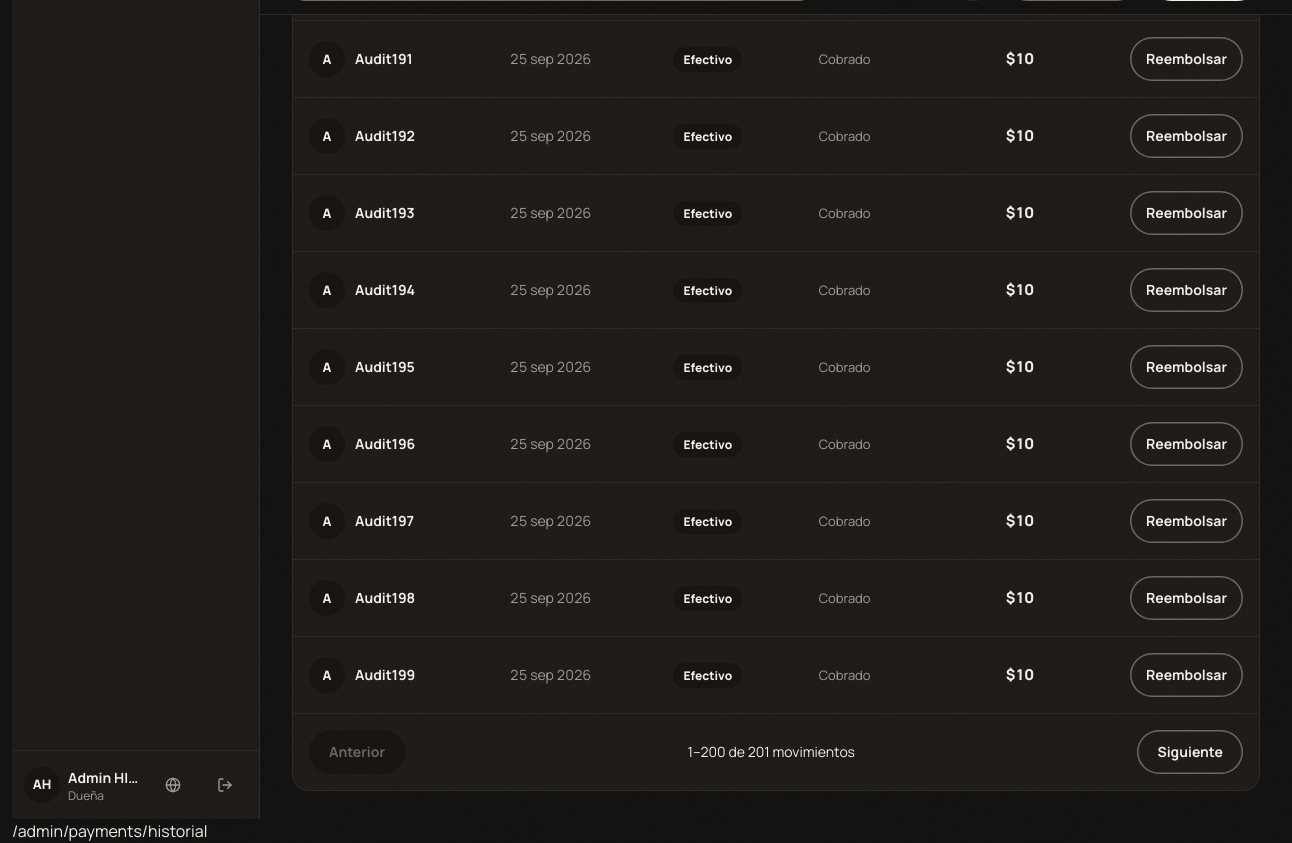
Test: Auditoría reintento de venta › historial real usa agregados completos y pagina200 filas
(page scrolled)
Expected: the text "Audit199" is shown, top-left (355, 665), bottom-right (415, 685)
Click the button "Siguiente". click: {"x": 1190, "y": 752}
box: top-left (1138, 730), bottom-right (1243, 774)
(page scrolled)
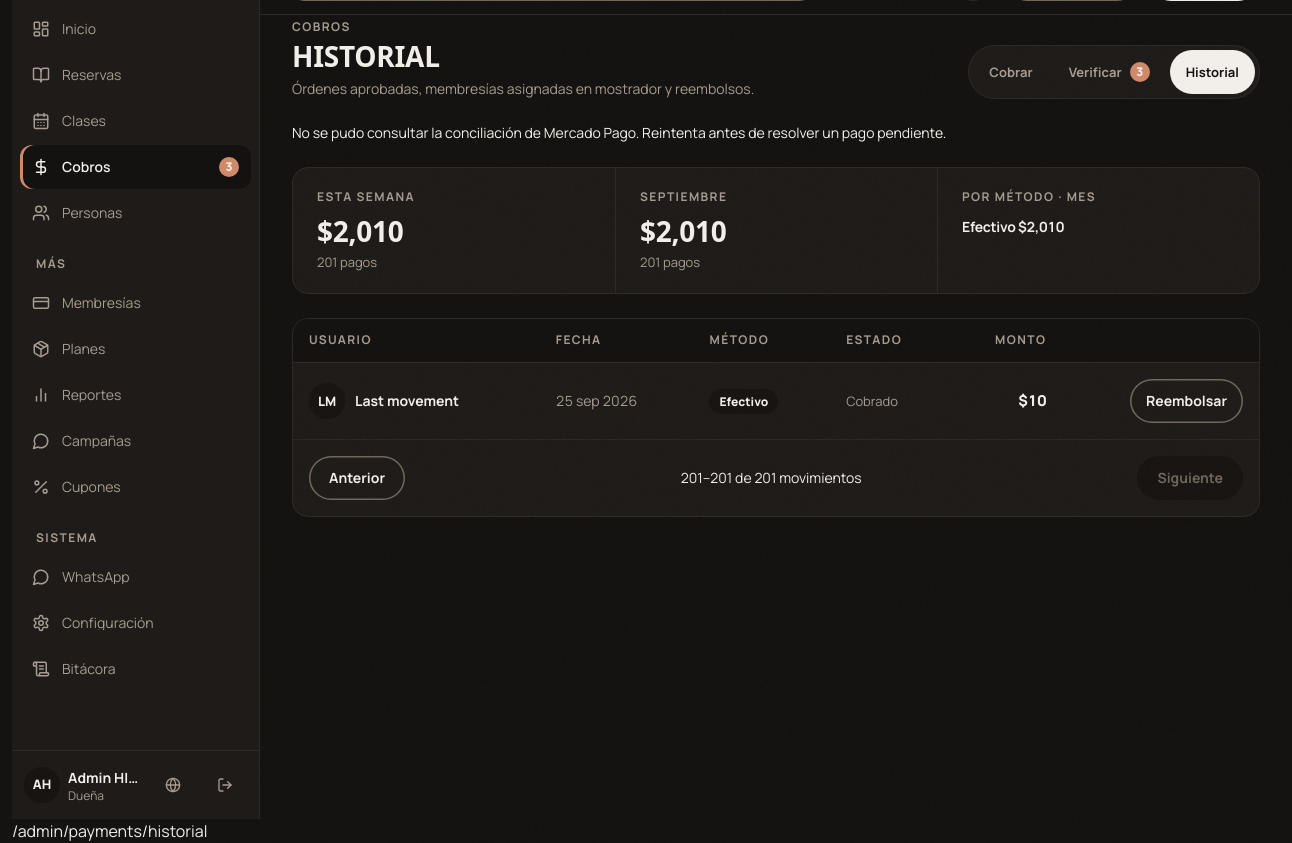
Expected: the text "$2,010" below "Esta semana" is shown, top-left (317, 212), bottom-right (403, 250)
Result: the text "Last movement" is shown at top-left (355, 391), bottom-right (459, 411)
Result: the button "Siguiente" is disabled at top-left (1138, 456), bottom-right (1243, 500)
